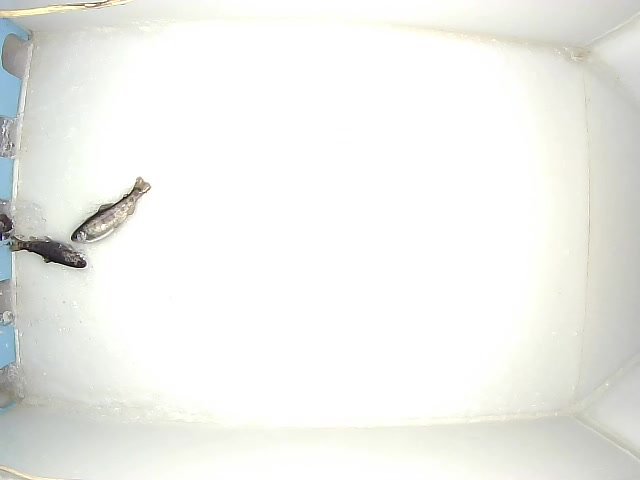fish: (71, 176, 151, 244), (9, 235, 87, 269)
